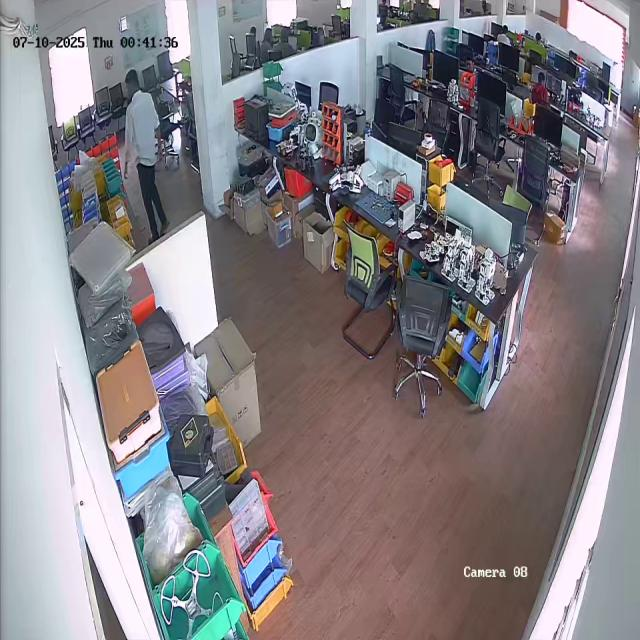person: (120, 69, 165, 244)
